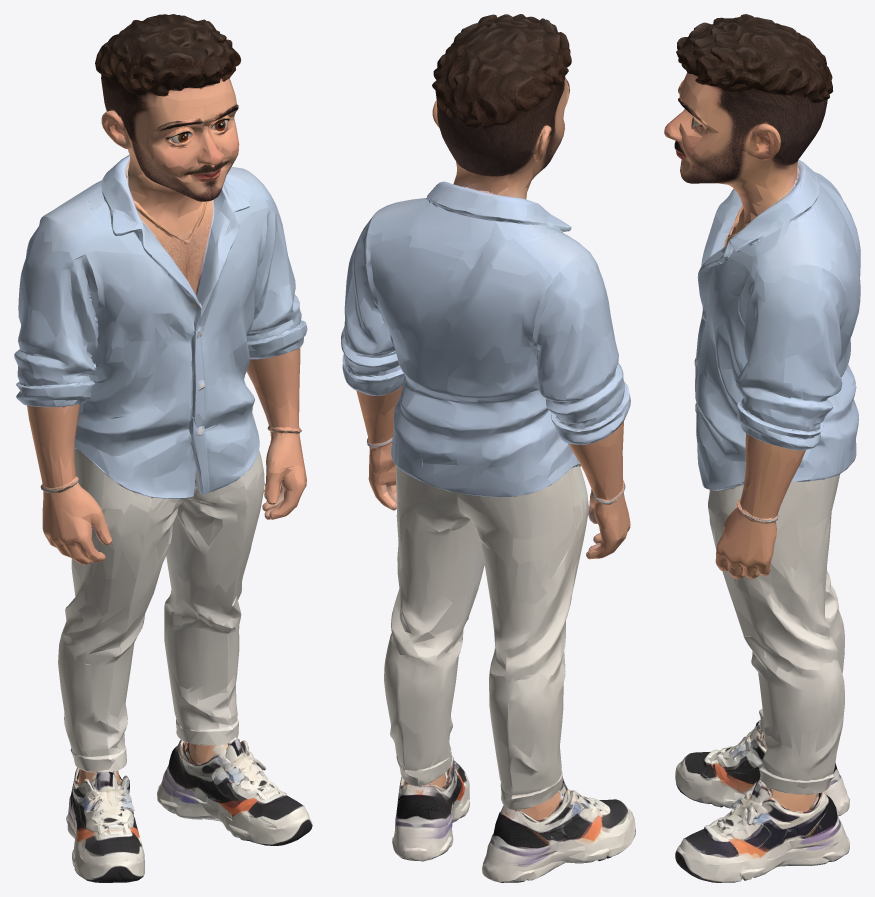
File: musty-meshy.glb
3 renders of one model, left to right at view 1: azimuth 30°, elevation 25°; view 2: azimuth 150°, elevation 25°; view 3: azimuth 270°, elevation 25°, orthographic.
Bounding box in the file's own units: 0.6774 × 1.9 × 0.4197.
Materials: 1 (1 with a texture image).
